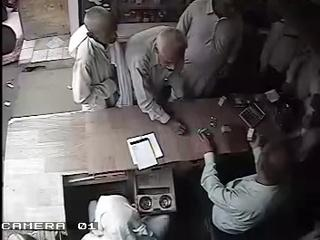Normal: (196, 127, 296, 240), (124, 25, 189, 136), (174, 0, 243, 99), (80, 193, 158, 240), (238, 102, 266, 129)
shoplifting: (68, 6, 134, 112)
